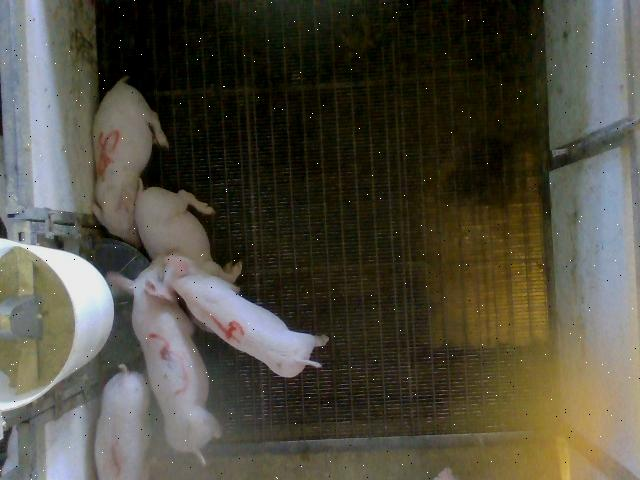pig-1: (95, 364, 149, 479)
pig-3: (108, 259, 221, 464)
pig-4: (150, 255, 324, 377)
pig-5: (92, 78, 169, 247)
